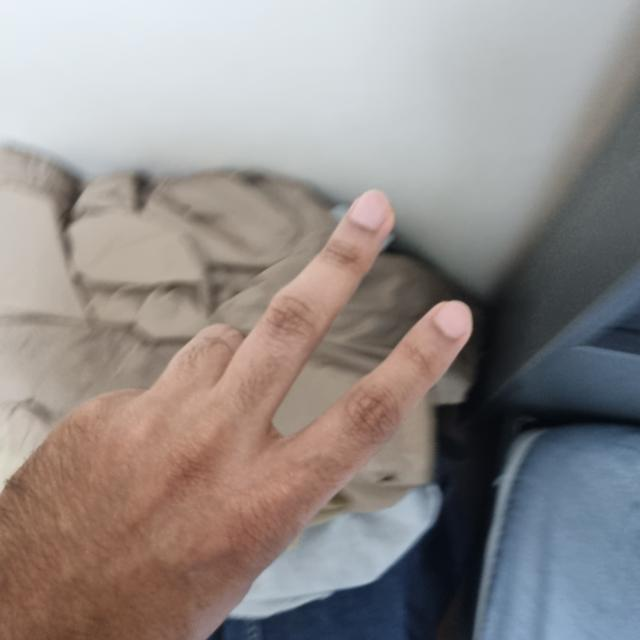Scissors: (0, 196, 472, 640)
